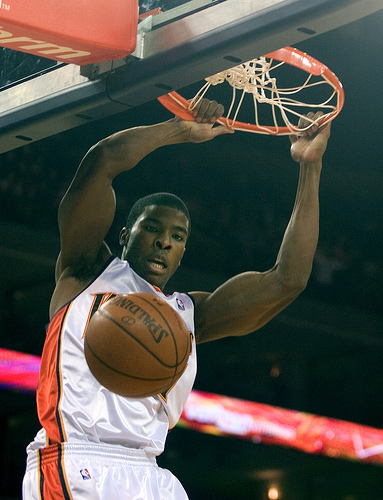basketball: (83, 291, 190, 399)
